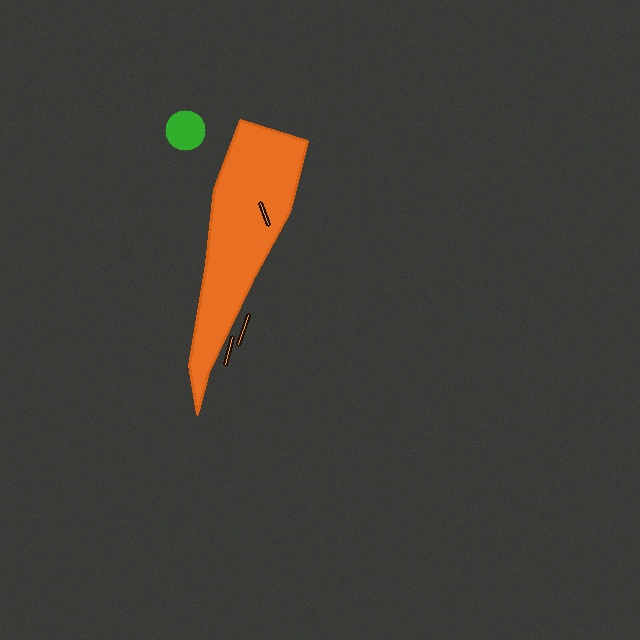Damaged_Carrot: (181, 112, 315, 422)
